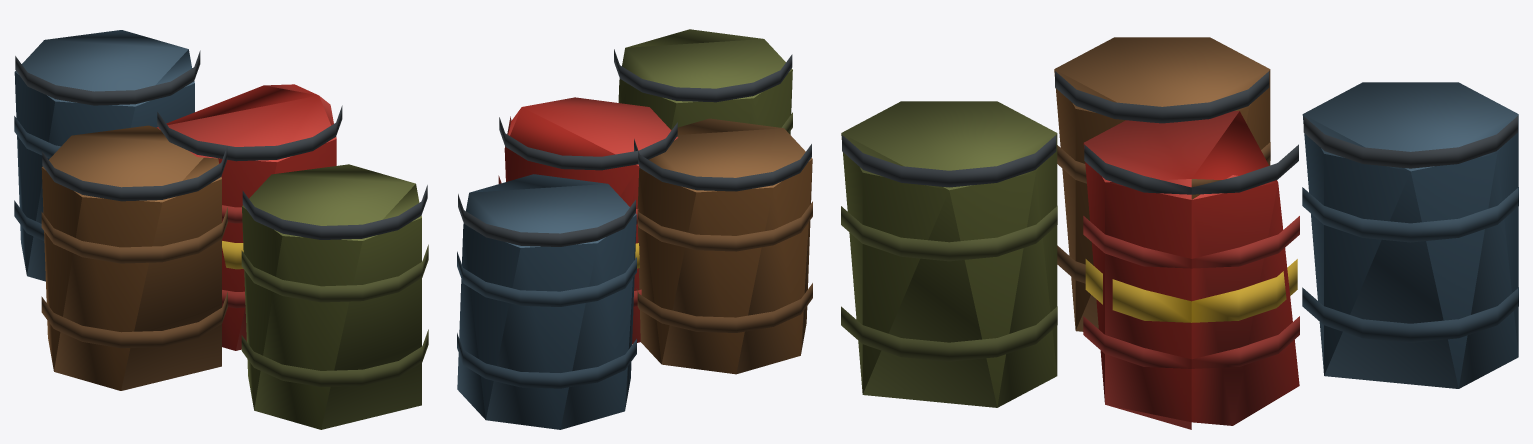
The model's file is barrel-v1.lod2.glb.
3 renders of one model, left to right at view 1: azimuth 30°, elevation 25°; view 2: azimuth 150°, elevation 25°; view 3: azimuth 270°, elevation 25°, orthographic. The views are drawn at different scales.
Visible parts, largest first — view 1: barrel-v1.lod2; view 2: barrel-v1.lod2; view 3: barrel-v1.lod2.
Boxes of the visible parts, <box> form: barrel-v1.lod2: <box>14,30,428,429</box>; barrel-v1.lod2: <box>457,29,812,429</box>; barrel-v1.lod2: <box>841,37,1518,429</box>.
Size of the model in its own units: 1.52 by 1.07 by 2.57.
